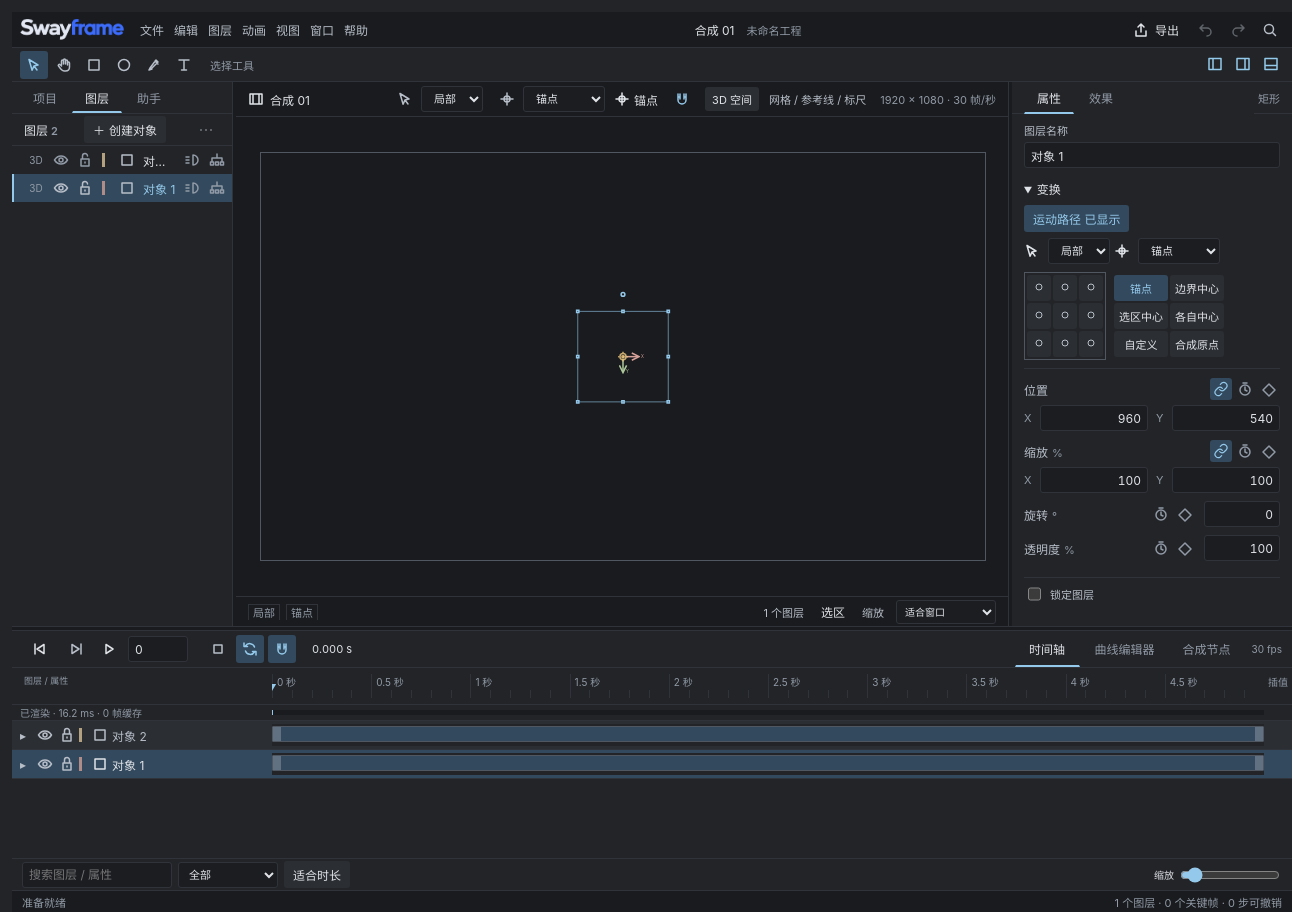
Inspector直接呈现父级与Effects；空间和时间归属分离
Click the tab "效果": (1101, 98) [1076,82,1126,114]
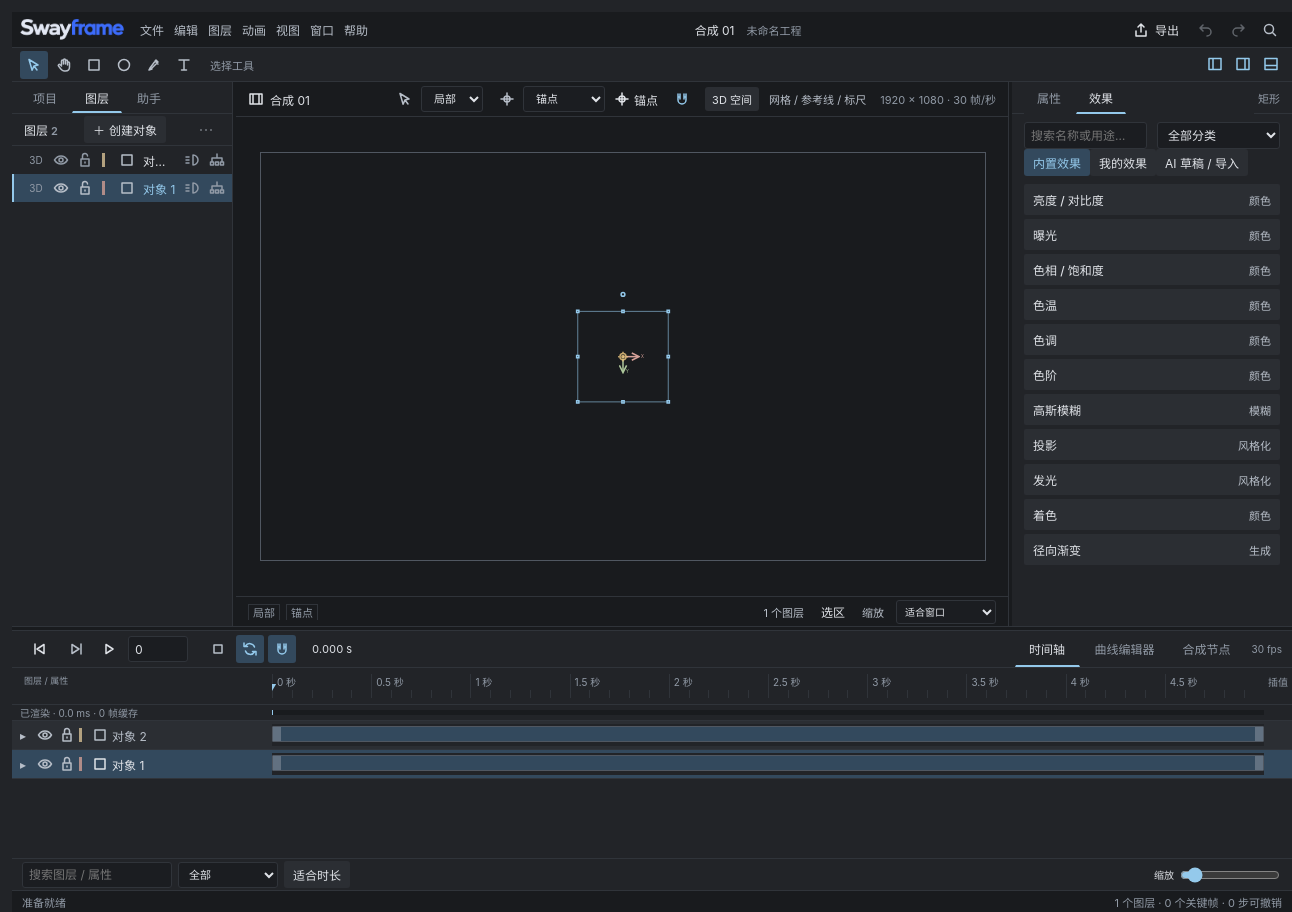
Result: the button "高斯模糊 模糊" is shown at [1024,394,1280,425]
